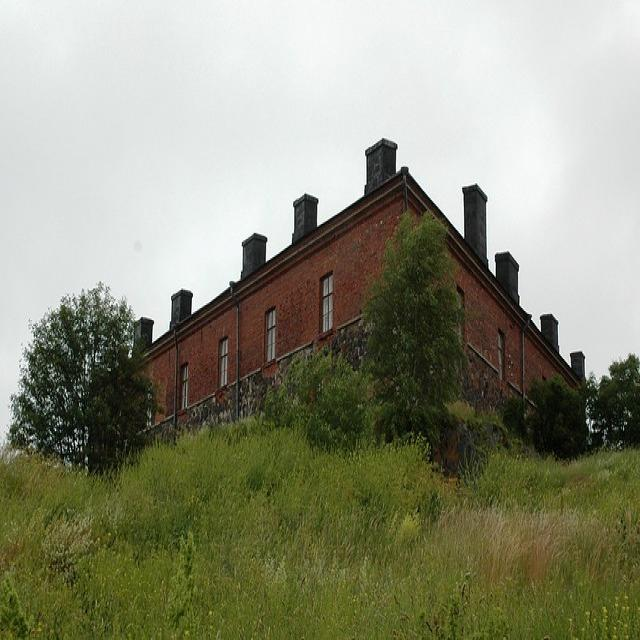building: (105, 137, 588, 496)
